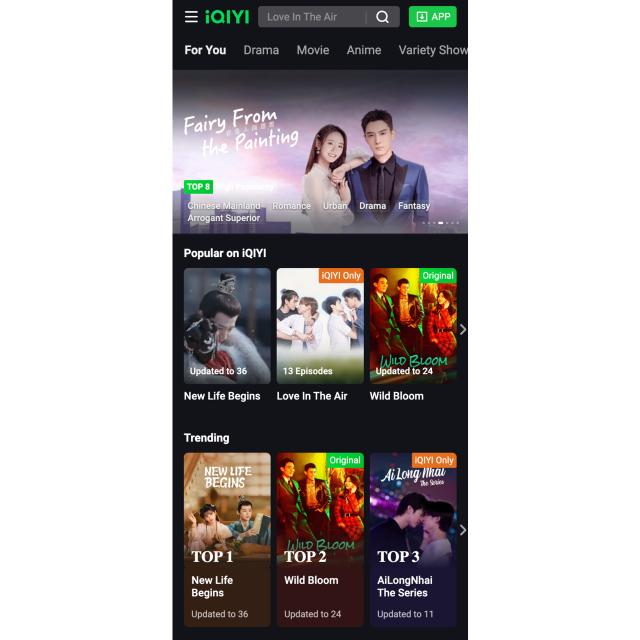CheckBox: (408, 4, 458, 30)
CheckedTextView: (256, 4, 402, 30)
RadioButton: (318, 266, 364, 284), (410, 452, 458, 469), (326, 451, 366, 469), (419, 267, 457, 284), (184, 180, 214, 194)
Switch: (177, 264, 467, 404)
breadcrumbs: (182, 244, 270, 262), (182, 429, 232, 448)
card: (173, 64, 468, 232)
carousel: (183, 8, 199, 26), (375, 8, 393, 24), (459, 321, 467, 337)
copy: (181, 266, 273, 387), (368, 266, 458, 388), (276, 266, 366, 387)
date picker: (202, 4, 254, 28)
decoration: (178, 38, 468, 62), (181, 4, 200, 27)
footer: (265, 8, 341, 24)
